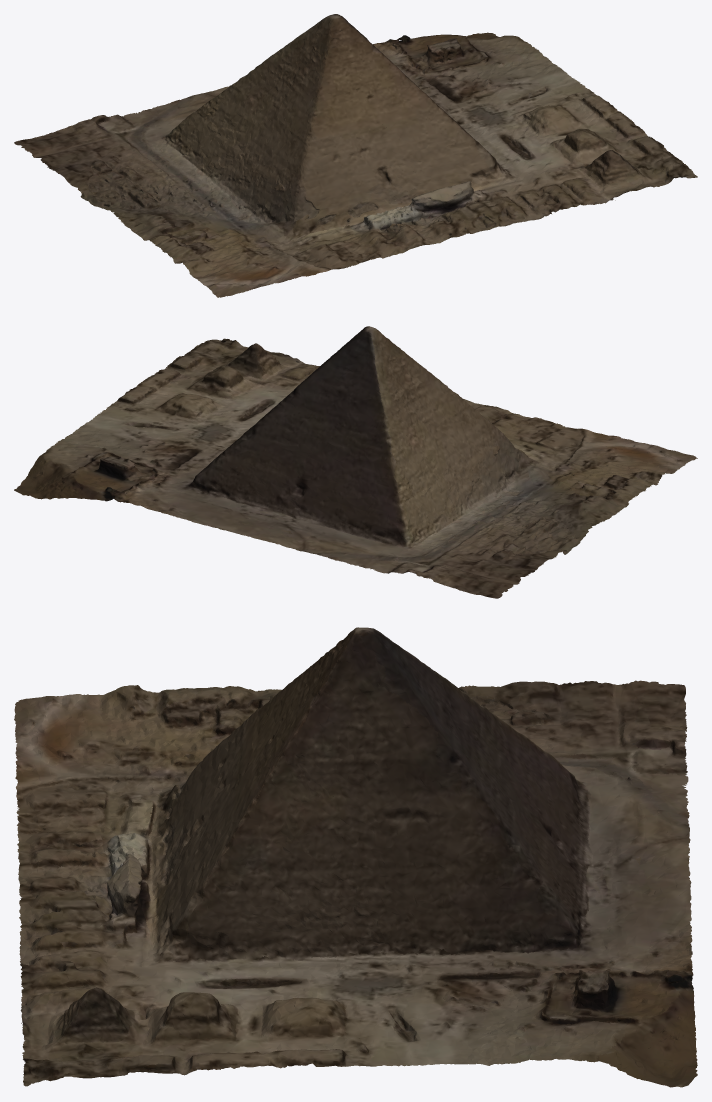
3 renders of one model, top to bottom at view 1: azimuth 30°, elevation 25°; view 2: azimuth 150°, elevation 25°; view 3: azimuth 270°, elevation 25°, orthographic. The views are drawn at different scales.
Visible parts, largest first — view 1: mat-0; view 2: mat-0; view 3: mat-0.
Boxes of the visible parts, left/top/right/bottom form: mat-0: left=14, top=14, right=697, bottom=297; mat-0: left=14, top=326, right=697, bottom=598; mat-0: left=14, top=627, right=697, bottom=1087.
Bounding box in the file's own units: 3.99 × 1.23 × 2.95.
Materials: 1 (1 with a texture image).
